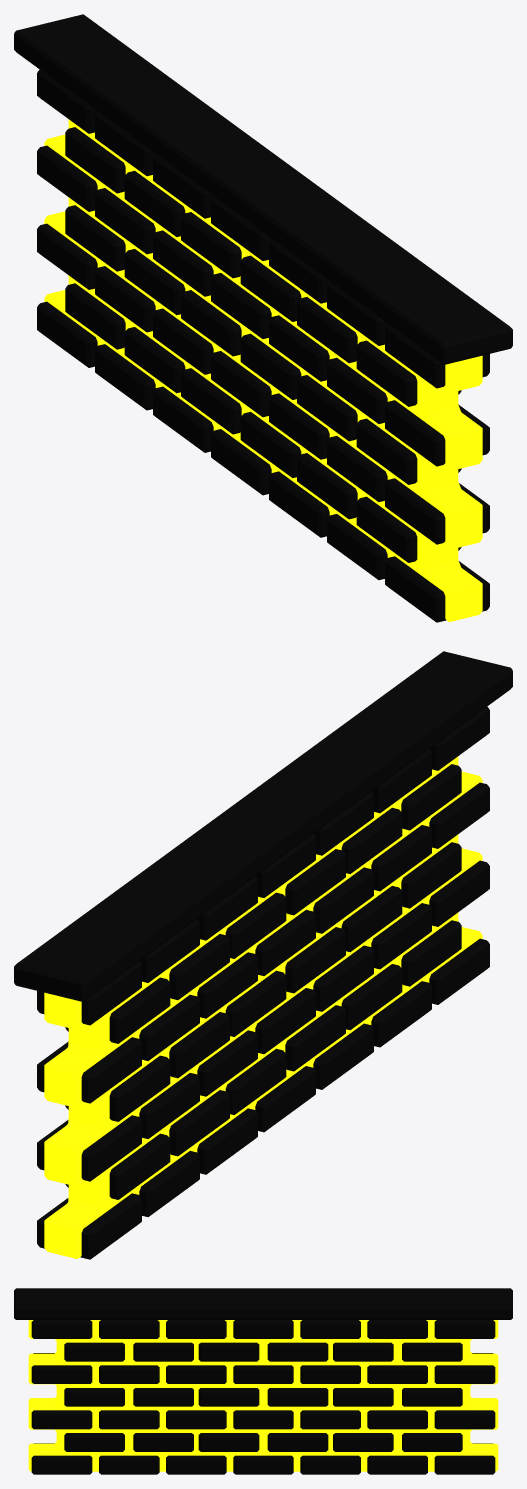
File: Lvl 5 FireWall.fbx
The picture shows the model from 3 angles, top to bottom: view 1: azimuth 30°, elevation 25°; view 2: azimuth 150°, elevation 25°; view 3: azimuth 270°, elevation 25°; orthographic projection. The views are drawn at different scales.
Visible parts, largest first — view 1: Firewall; view 2: Firewall; view 3: Firewall.
Boxes of the visible parts, x1,y1,x2,y2 form: Firewall: [14, 14, 512, 622]; Firewall: [14, 651, 512, 1259]; Firewall: [14, 1288, 512, 1474].
Size of the model in its own units: 0.4375 by 1.71 by 4.55.
